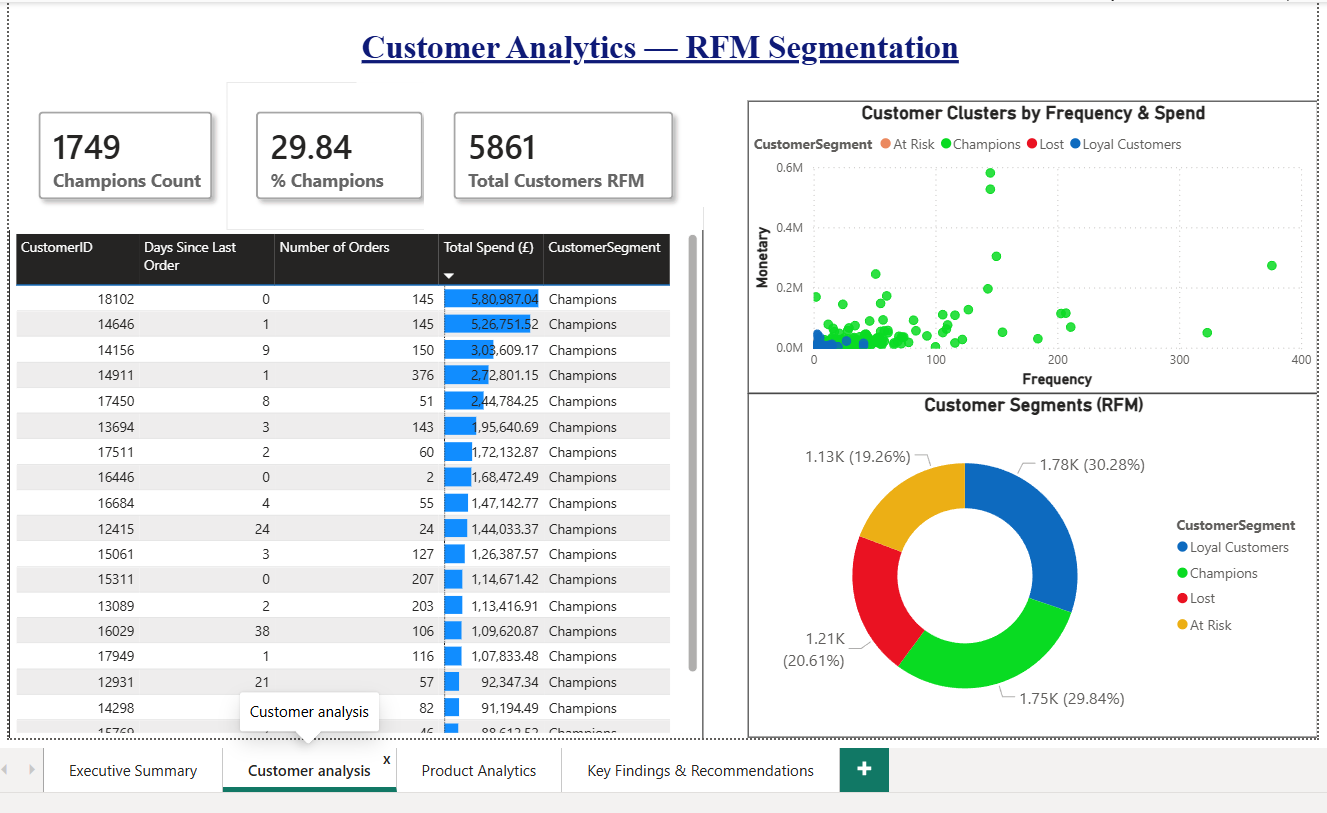

The dashboard page shown, as its layout file describes it:
{"tool":"powerbi","page":{"name":"Customer analysis","canvas":[1280,720],"ordinal":1},"visuals":[{"type":"donutChart","title":"Customer Segments (RFM)","fields":{"Category":["vw_RFM.CustomerSegment"],"Y":["CountNonNull(vw_RFM.CustomerID)"]},"box":[722.5,382.8,557.7,337.2],"z":0},{"type":"tableEx","title":"Top Customers by Value","fields":{"Values":["vw_RFM.CustomerID","vw_RFM.Recency","vw_RFM.Frequency","vw_RFM.Monetary","vw_RFM.CustomerSegment"]},"box":[0,200.3,679.4,521],"z":1000},{"type":"scatterChart","title":"Customer Clusters by Frequency & Spend","fields":{"X":["vw_RFM.Frequency"],"Y":["vw_RFM.Monetary"],"Series":["vw_RFM.CustomerSegment"]},"box":[722.5,96.3,557.7,286.5],"z":2000},{"type":"cardVisual","fields":{"Data":["Measures_Table.Champions Count"]},"box":[0,78.6,228.2,144.5],"z":3000},{"type":"cardVisual","fields":{"Data":["Measures_Table.% Champions"]},"box":[213,78.6,221.8,144.5],"z":4000},{"type":"cardVisual","fields":{"Data":["Measures_Table.Total Customers RFM"]},"box":[405.6,78.6,273.8,144.5],"z":5000},{"type":"textbox","box":[339.7,20.3,607.2,58.3],"z":6000}]}

Visuals, with their boxes on the page's 1280x720 design canvas (x1, y1, x2, y2). These are canvas units, not pixel positions in the 1327x813 screenshot, which may show the page scaled, cropped or inside an application window:
"Customer Segments (RFM)" donutChart: <bbox>722, 383, 1280, 720</bbox>
"Top Customers by Value" tableEx: <bbox>0, 200, 679, 721</bbox>
"Customer Clusters by Frequency & Spend" scatterChart: <bbox>722, 96, 1280, 383</bbox>
cardVisual - Measures_Table.Champions Count: <bbox>0, 79, 228, 223</bbox>
cardVisual - Measures_Table.% Champions: <bbox>213, 79, 435, 223</bbox>
cardVisual - Measures_Table.Total Customers RFM: <bbox>406, 79, 679, 223</bbox>
textbox: <bbox>340, 20, 947, 79</bbox>
